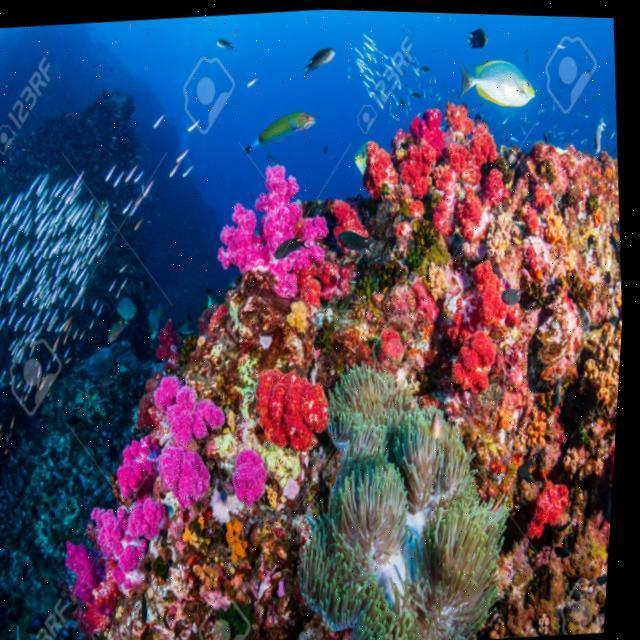Healthy Coral: (29, 91, 636, 640)
